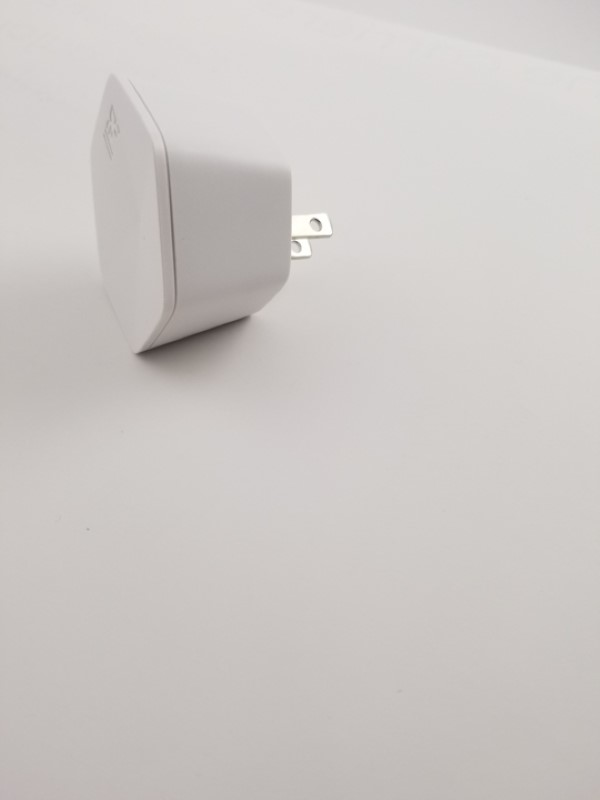pod: (86, 68, 332, 364)
